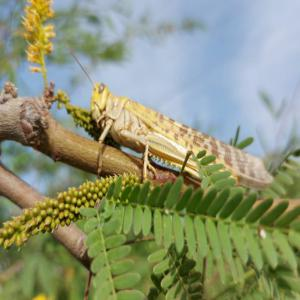locust: (91, 71, 274, 196)
